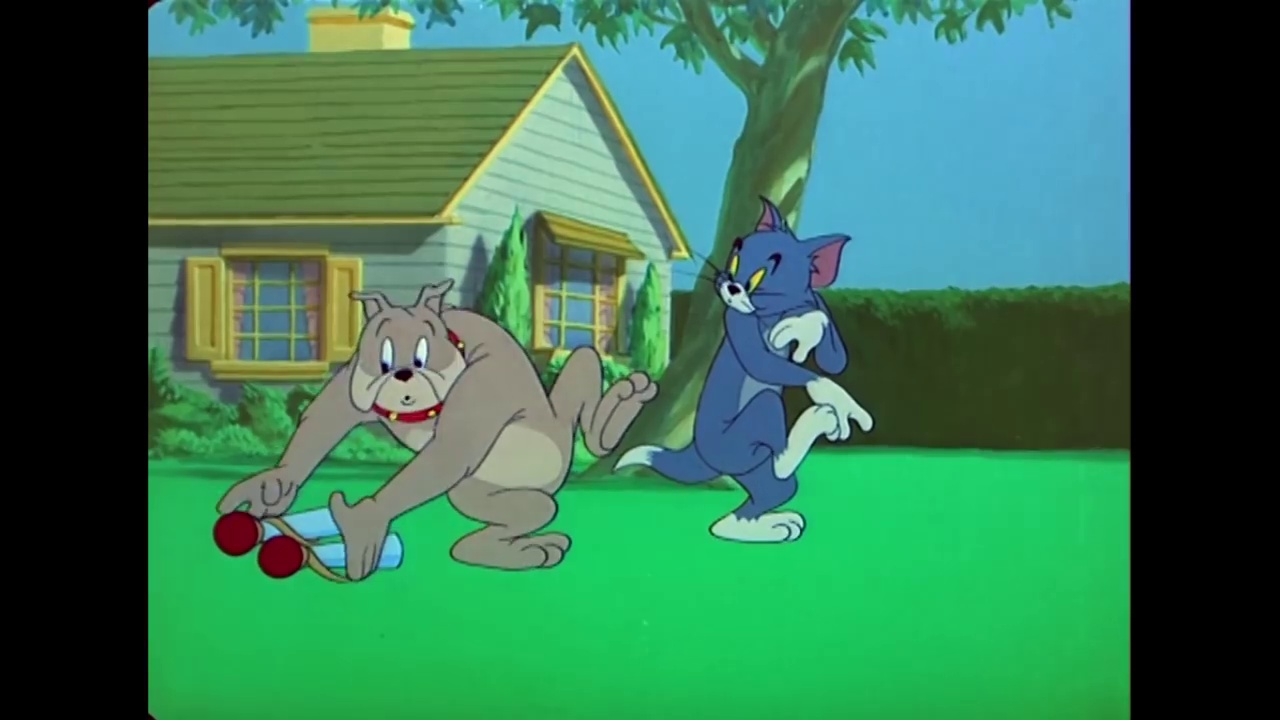spike: (348, 276, 477, 434)
tom: (707, 192, 859, 329)
